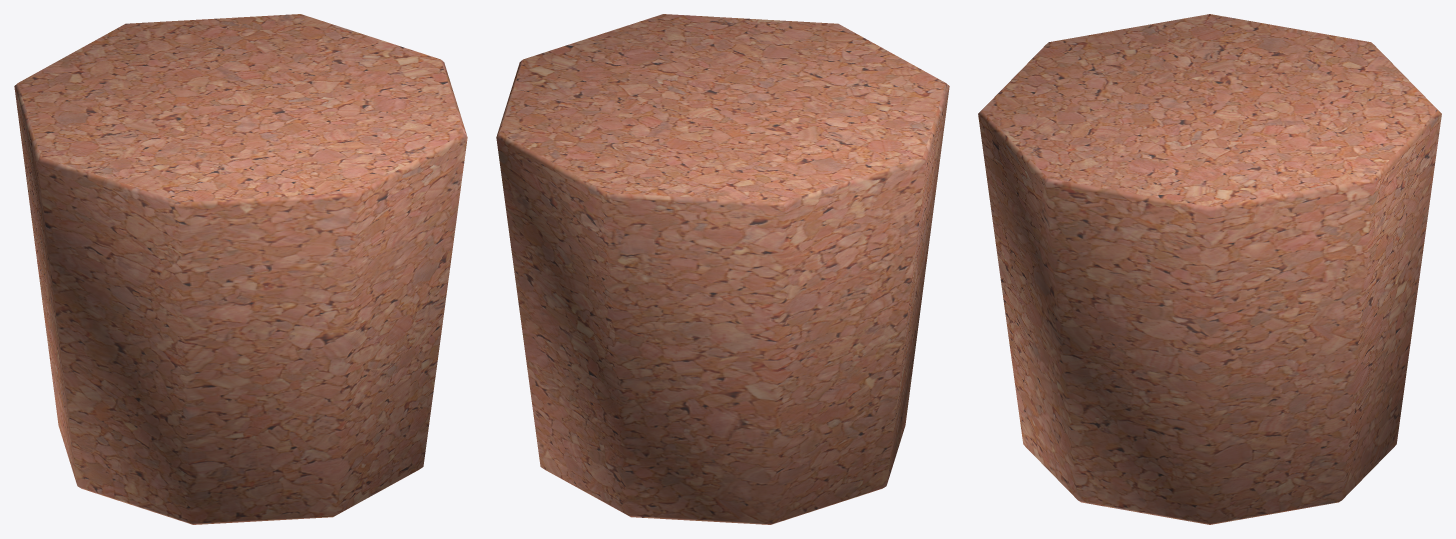
File: Shooting_Bullet.fbx
The picture shows the model from 3 angles, left to right: view 1: azimuth 30°, elevation 25°; view 2: azimuth 150°, elevation 25°; view 3: azimuth 270°, elevation 25°; orthographic projection.
Visible parts, largest first — view 1: 円柱; view 2: 円柱; view 3: 円柱.
Part boxes in pixels (left/top/right/bottom): 円柱: left=14, top=14, right=467, bottom=524; 円柱: left=496, top=14, right=949, bottom=524; 円柱: left=978, top=14, right=1441, bottom=524.
Size of the model in its own units: 1.08 by 0.8641 by 1.08.
